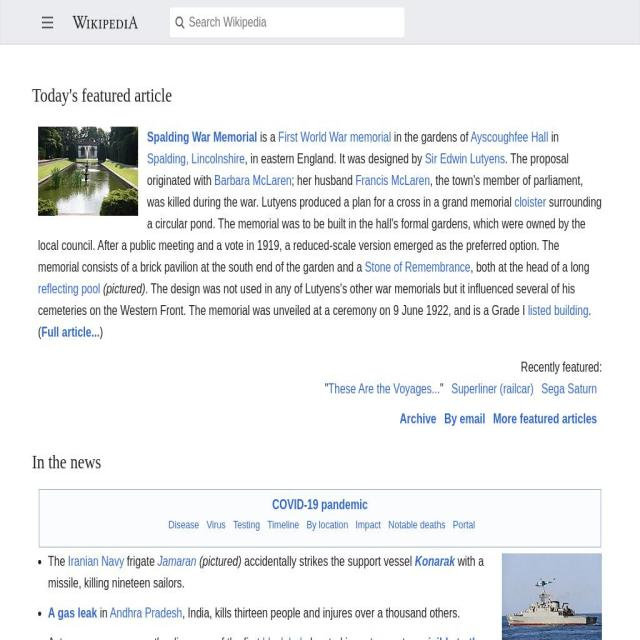field: (170, 8, 404, 38)
heading: (32, 82, 608, 109), (32, 449, 608, 476)
image: (38, 126, 138, 216), (502, 552, 602, 640), (73, 15, 138, 30)
label: (34, 4, 61, 41)
link: (48, 635, 484, 640), (278, 129, 392, 144), (328, 381, 441, 396), (147, 129, 257, 144), (364, 259, 470, 274), (492, 411, 597, 426), (272, 496, 368, 512), (147, 151, 246, 166), (214, 172, 291, 188), (452, 381, 534, 396), (424, 151, 505, 166), (355, 172, 430, 188), (470, 129, 548, 144), (109, 605, 182, 620), (528, 302, 588, 318), (38, 281, 100, 296), (41, 324, 100, 339), (542, 381, 598, 396), (388, 517, 446, 531), (68, 554, 124, 568), (47, 605, 97, 620), (444, 411, 486, 426), (306, 517, 349, 531), (414, 554, 455, 568), (399, 411, 437, 426), (158, 554, 196, 568), (514, 194, 547, 209), (168, 517, 200, 531), (267, 517, 299, 531), (232, 517, 260, 531), (355, 517, 381, 531), (452, 517, 476, 531), (206, 517, 226, 531), (263, 635, 308, 640)
text: (38, 194, 602, 274), (37, 303, 592, 339), (37, 281, 575, 317), (48, 553, 484, 590), (147, 173, 583, 209), (147, 151, 569, 187), (500, 0, 599, 45), (182, 605, 460, 620), (244, 151, 425, 166), (241, 554, 416, 568), (470, 259, 589, 274), (520, 359, 602, 374), (390, 129, 470, 144), (48, 635, 262, 640), (292, 172, 356, 188), (103, 281, 145, 296), (199, 554, 241, 568), (124, 554, 158, 568), (257, 129, 279, 144), (48, 554, 68, 568), (308, 635, 357, 640), (97, 605, 111, 620), (548, 129, 560, 144), (99, 324, 104, 339), (324, 381, 329, 396), (440, 381, 444, 396)
